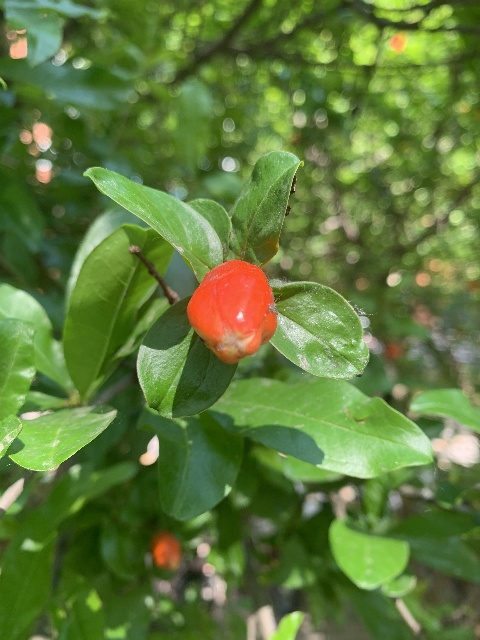bud: (187, 260, 276, 363)
